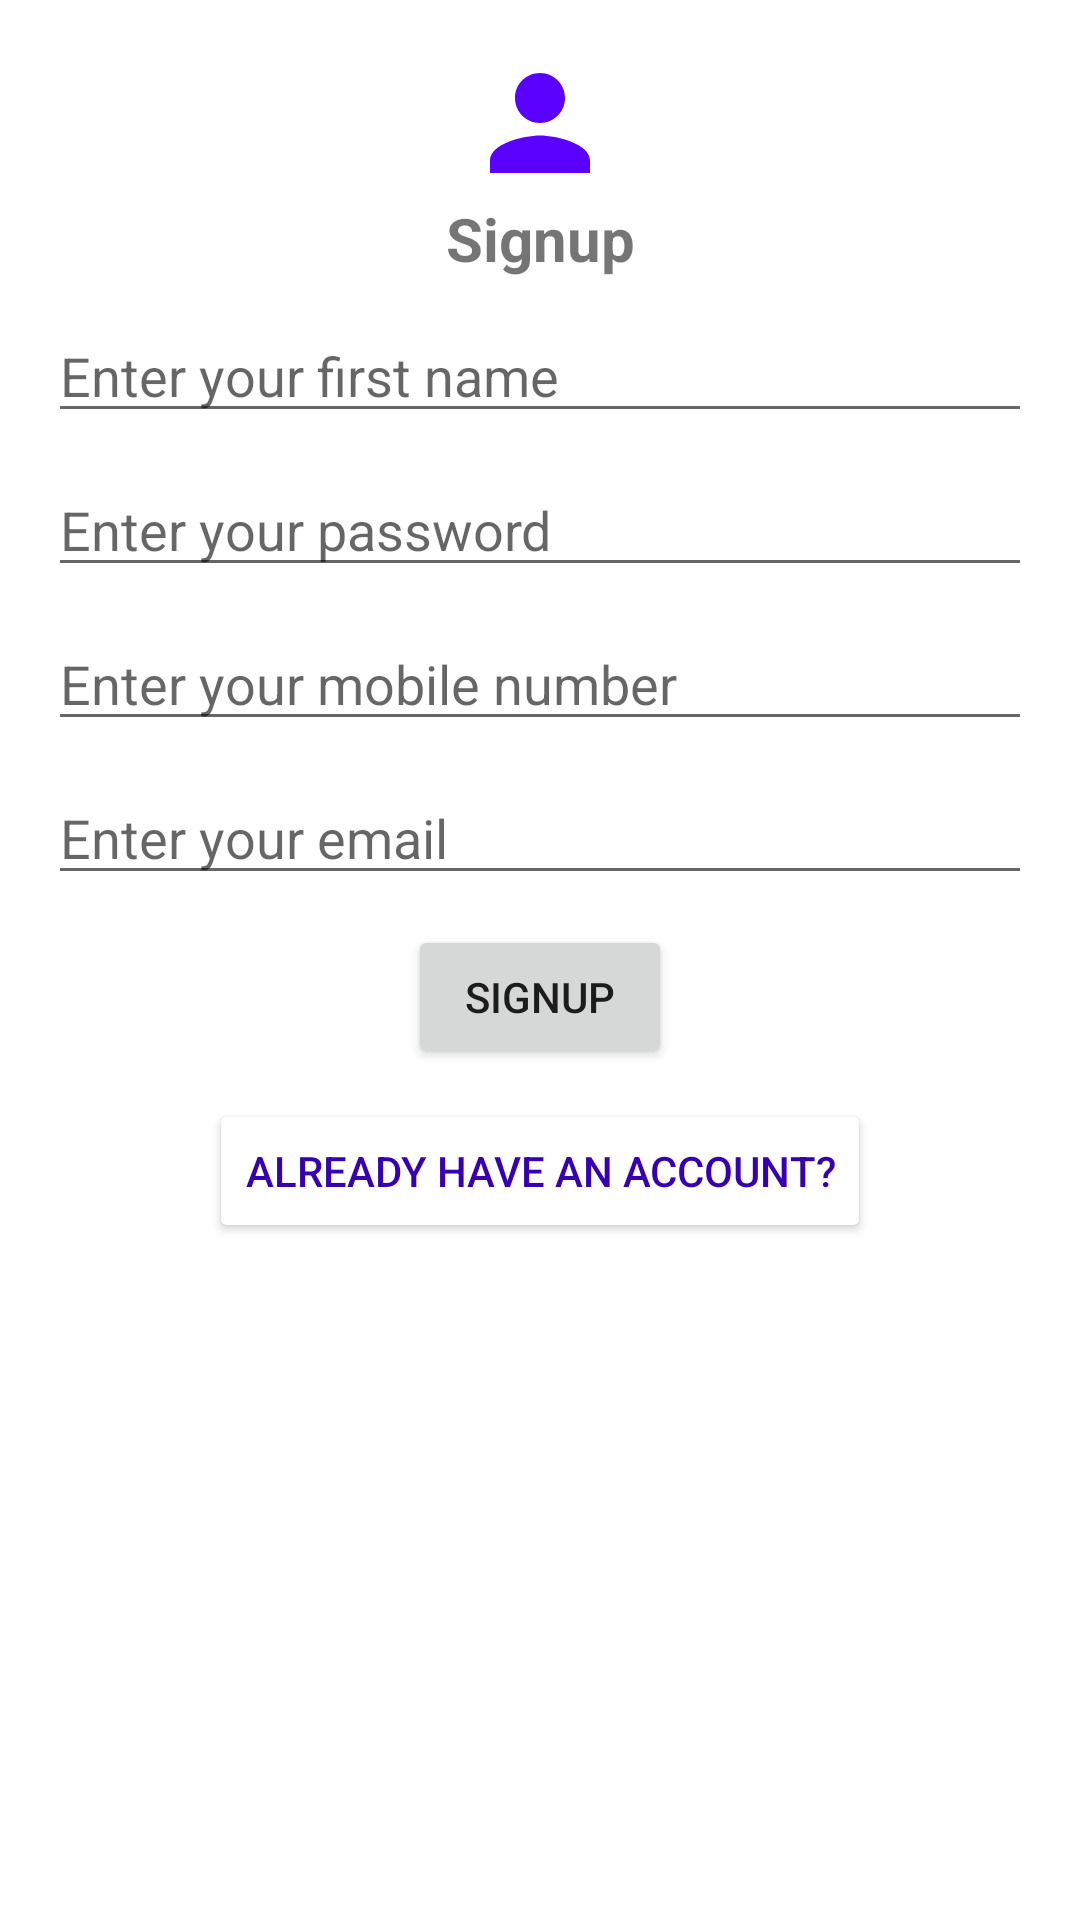

Point at icon controls on the screen. Image size 1080 x 1920, points as (x,y).
register: (540,123)
